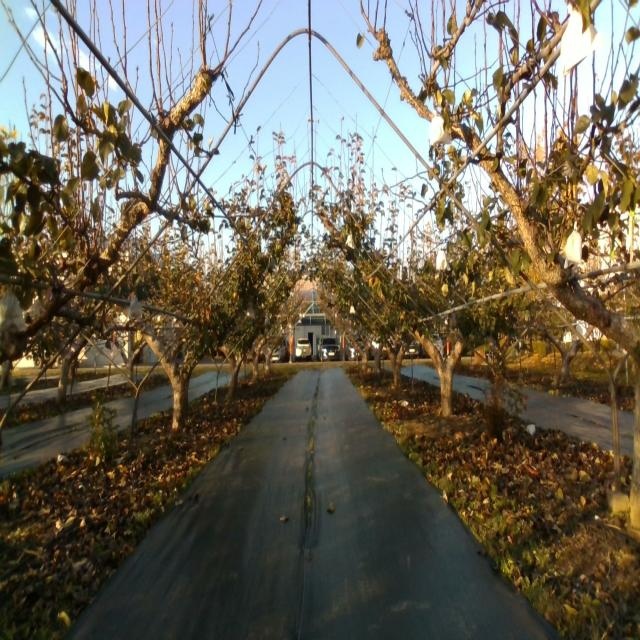pearbags: (560, 0, 599, 76), (0, 290, 27, 334), (428, 110, 452, 147), (564, 222, 582, 268), (128, 295, 143, 321), (436, 249, 448, 271)
